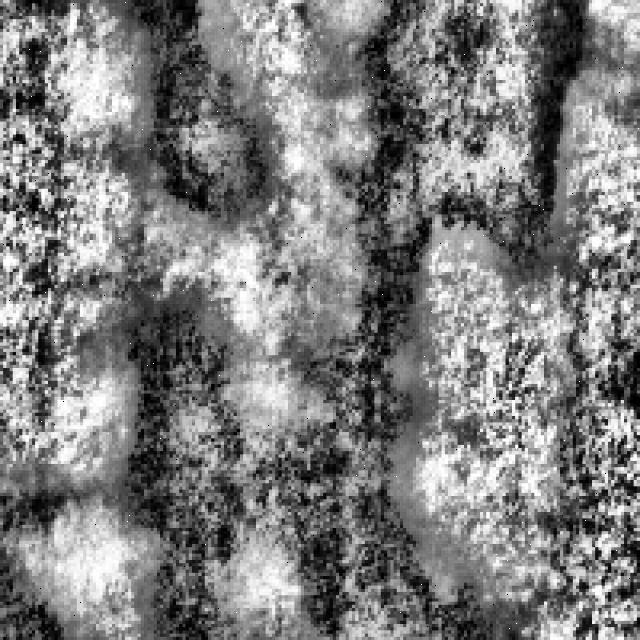Scratches: (268, 221, 468, 637), (332, 0, 582, 272), (105, 288, 262, 637), (127, 0, 262, 230), (0, 490, 67, 630)
